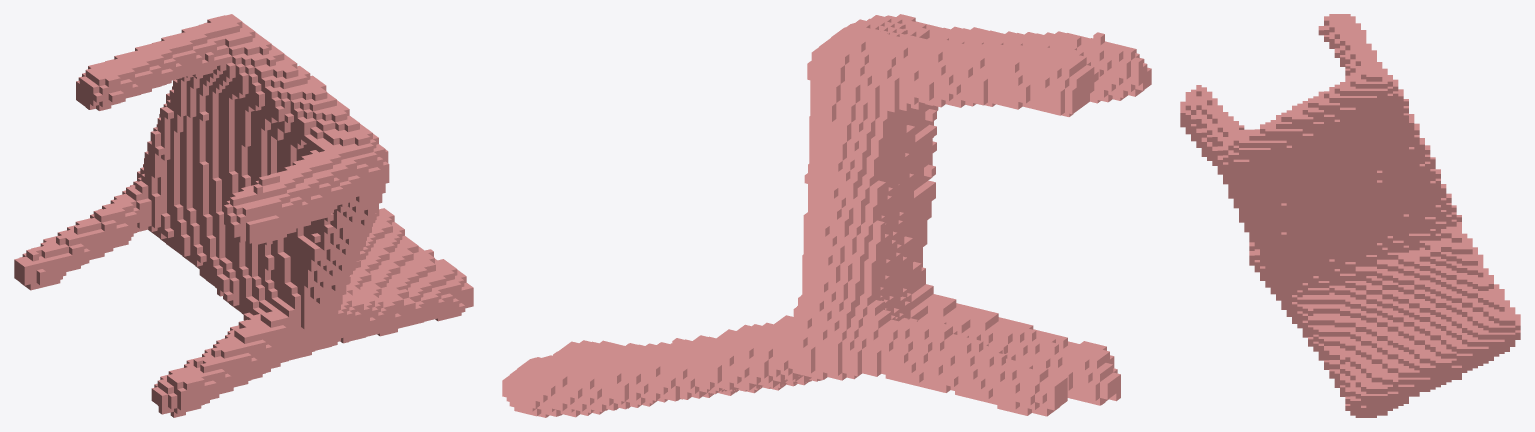
File: chair.obj
The picture shows the model from 3 angles, left to right: view 1: azimuth 30°, elevation 25°; view 2: azimuth 150°, elevation 25°; view 3: azimuth 270°, elevation 25°; orthographic projection. The views are drawn at different scales.
Visible parts, largest first — view 1: chair; view 2: chair; view 3: chair.
Part boxes in pixels (x1,y1,x2,y2): chair: (14, 14, 473, 417); chair: (502, 14, 1151, 417); chair: (1180, 14, 1520, 417).
Bounding box in the file's own units: 71 × 54 × 64.
